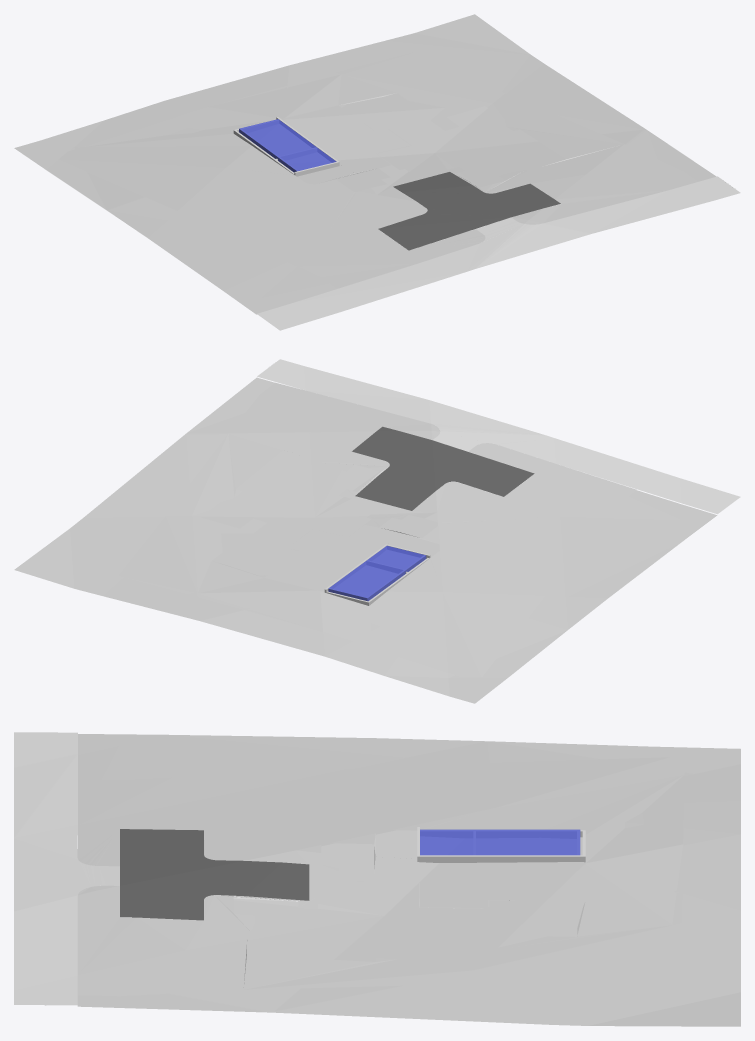
Rendered from Site_final.glb.
3 views of the same model, one above another, from view 1: azimuth 30°, elevation 25°; view 2: azimuth 150°, elevation 25°; view 3: azimuth 270°, elevation 25° (orthographic). The views are drawn at different scales.
Visible parts, largest first — view 1: site main.green.road, site main, site road, site driveway, water, Pool; view 2: site main.green.road, site main, site road, site driveway, water, Pool; view 3: site main.green.road, site main, site road, site driveway, water, Pool.
Part boxes in pixels (x1=…): site main.green.road: x1=52, y1=52, x2=697, y2=288; site main: x1=14, y1=14, x2=716, y2=314; site road: x1=257, y1=176, x2=740, y2=330; site driveway: x1=378, y1=172, x2=560, y2=250; water: x1=239, y1=119, x2=336, y2=172; Pool: x1=233, y1=117, x2=339, y2=176; site main.green.road: x1=118, y1=382, x2=636, y2=681; site main: x1=14, y1=377, x2=717, y2=703; site road: x1=257, y1=359, x2=740, y2=514; site driveway: x1=352, y1=426, x2=534, y2=510; water: x1=328, y1=546, x2=426, y2=601; Pool: x1=324, y1=544, x2=430, y2=605; site main.green.road: x1=77, y1=756, x2=684, y2=996; site main: x1=77, y1=734, x2=740, y2=1026; site road: x1=14, y1=732, x2=119, y2=1005; site driveway: x1=120, y1=829, x2=309, y2=920; water: x1=420, y1=829, x2=580, y2=855; Pool: x1=417, y1=827, x2=585, y2=862.
Bounding box in the file's own units: 51.81 × 4.02 × 51.81.
